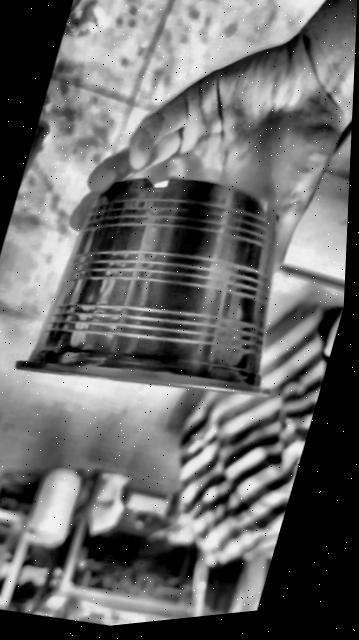pot: (16, 178, 276, 395)
